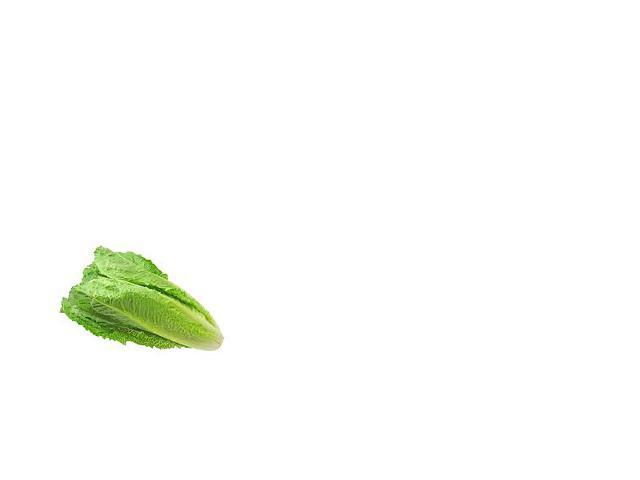lettuce: (65, 248, 229, 359)
